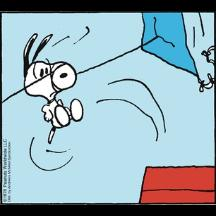snoopy: (22, 30, 86, 144)
